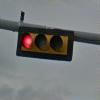Traffic light: (9, 19, 86, 65)
